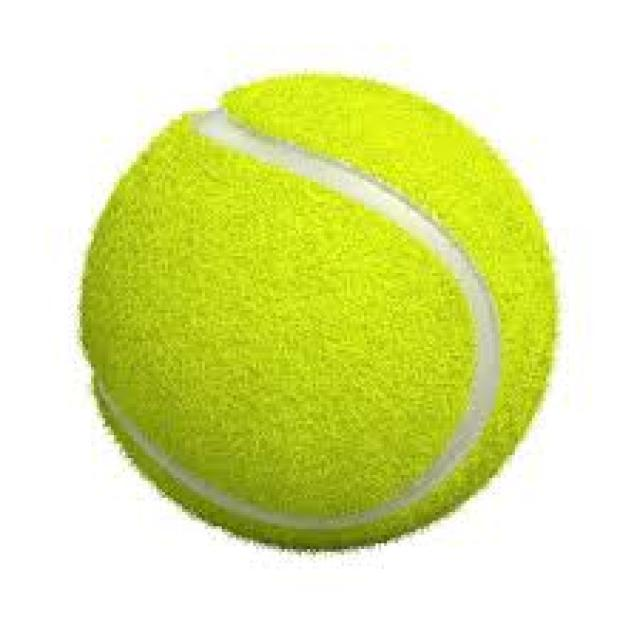Tennis Ball: (77, 74, 560, 552)
